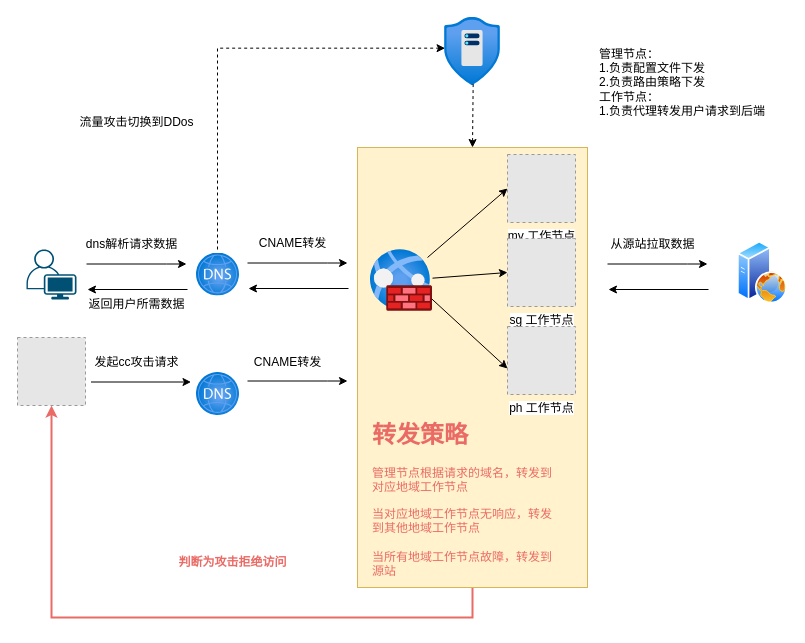
Some shapes in this 805 by 643 pixel diagram are drawn without their labels. Grey dashed boxes stand in for pictures. The shapes that lost their labels are listed below. From the top down, each one's centre as x and y in pixels, then its label:
At [472,51]: "Cloud DDos".
At [401,280]: "管理节点".
